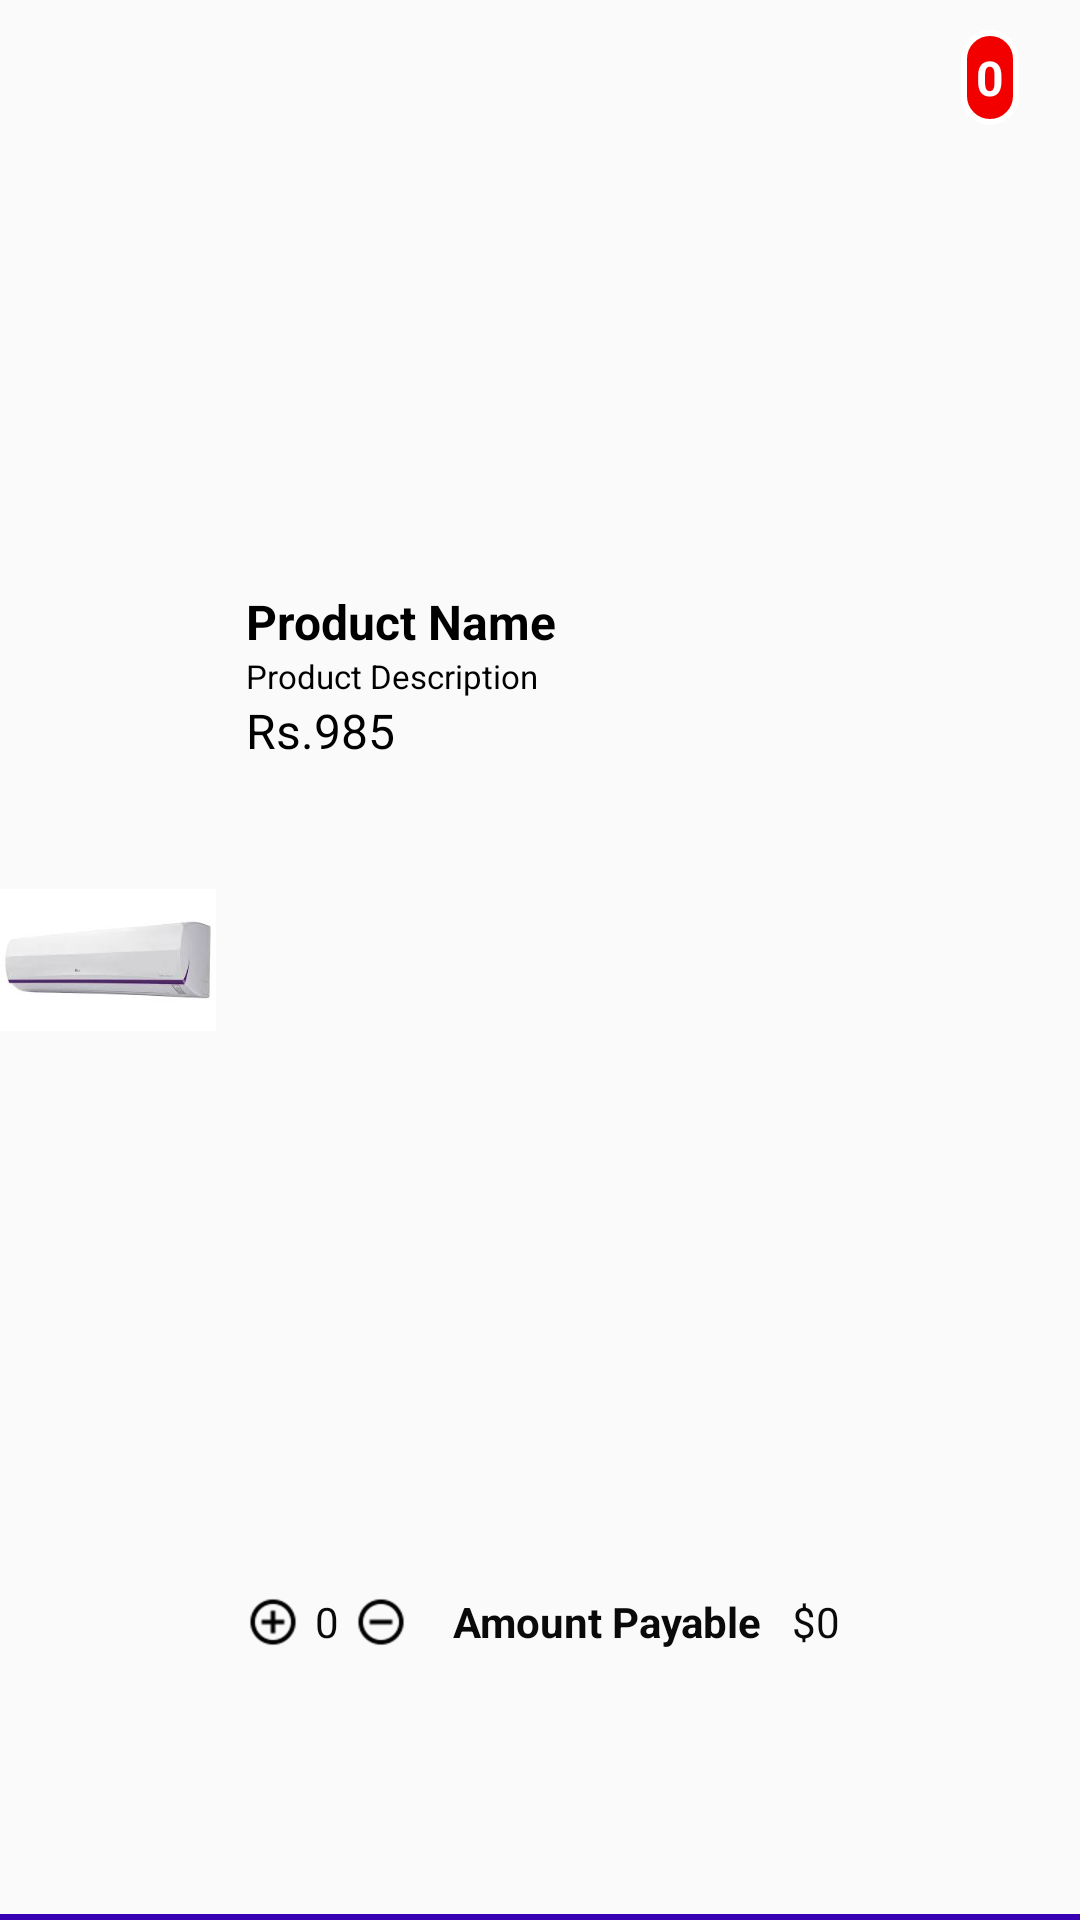

Locate icon controls on the screen. Image size 1080×1920, boxes as Rect(x1, y1, x2, y2).
add circle: Rect(250, 1599, 296, 1645)
remove circle: Rect(358, 1599, 404, 1645)
